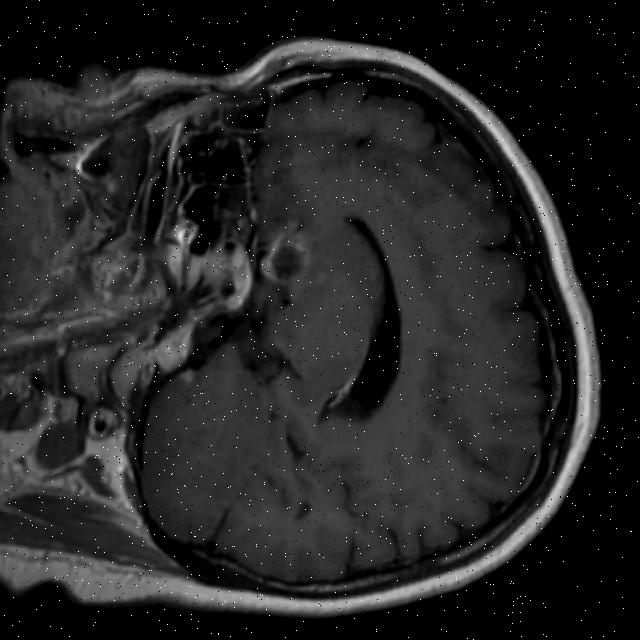Pituitary: (195, 236, 253, 312)
